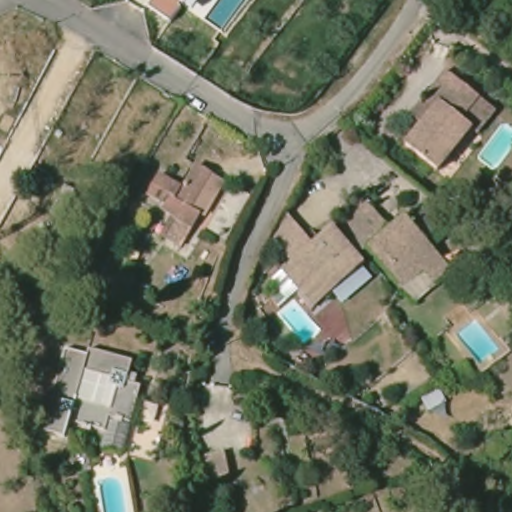pool: (271, 297, 327, 349), (455, 317, 501, 365), (88, 466, 134, 512), (477, 119, 512, 174), (200, 1, 256, 31)
